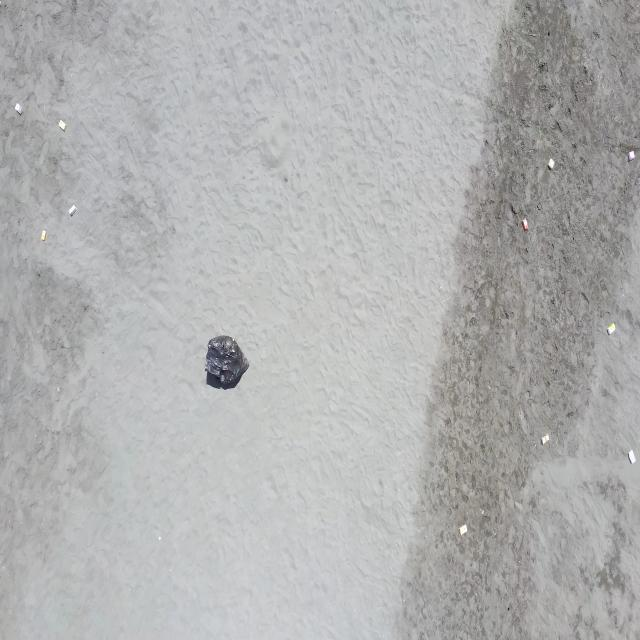Garbage: (207, 335, 247, 387), (627, 449, 635, 463), (13, 103, 22, 114), (540, 433, 548, 444), (68, 204, 75, 216), (460, 524, 467, 535), (607, 324, 615, 333), (57, 120, 65, 129), (627, 150, 633, 160), (522, 218, 527, 230), (40, 229, 45, 240), (547, 159, 553, 168), (156, 535, 160, 540), (55, 387, 60, 391)
